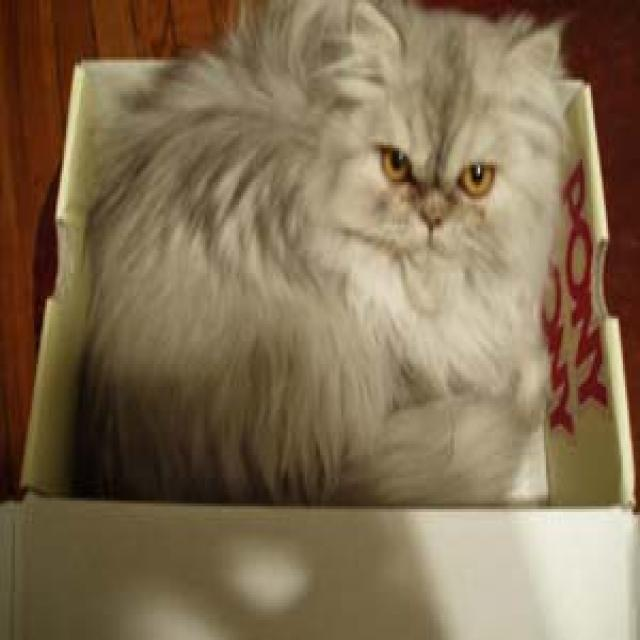Persian: (348, 0, 557, 307)
